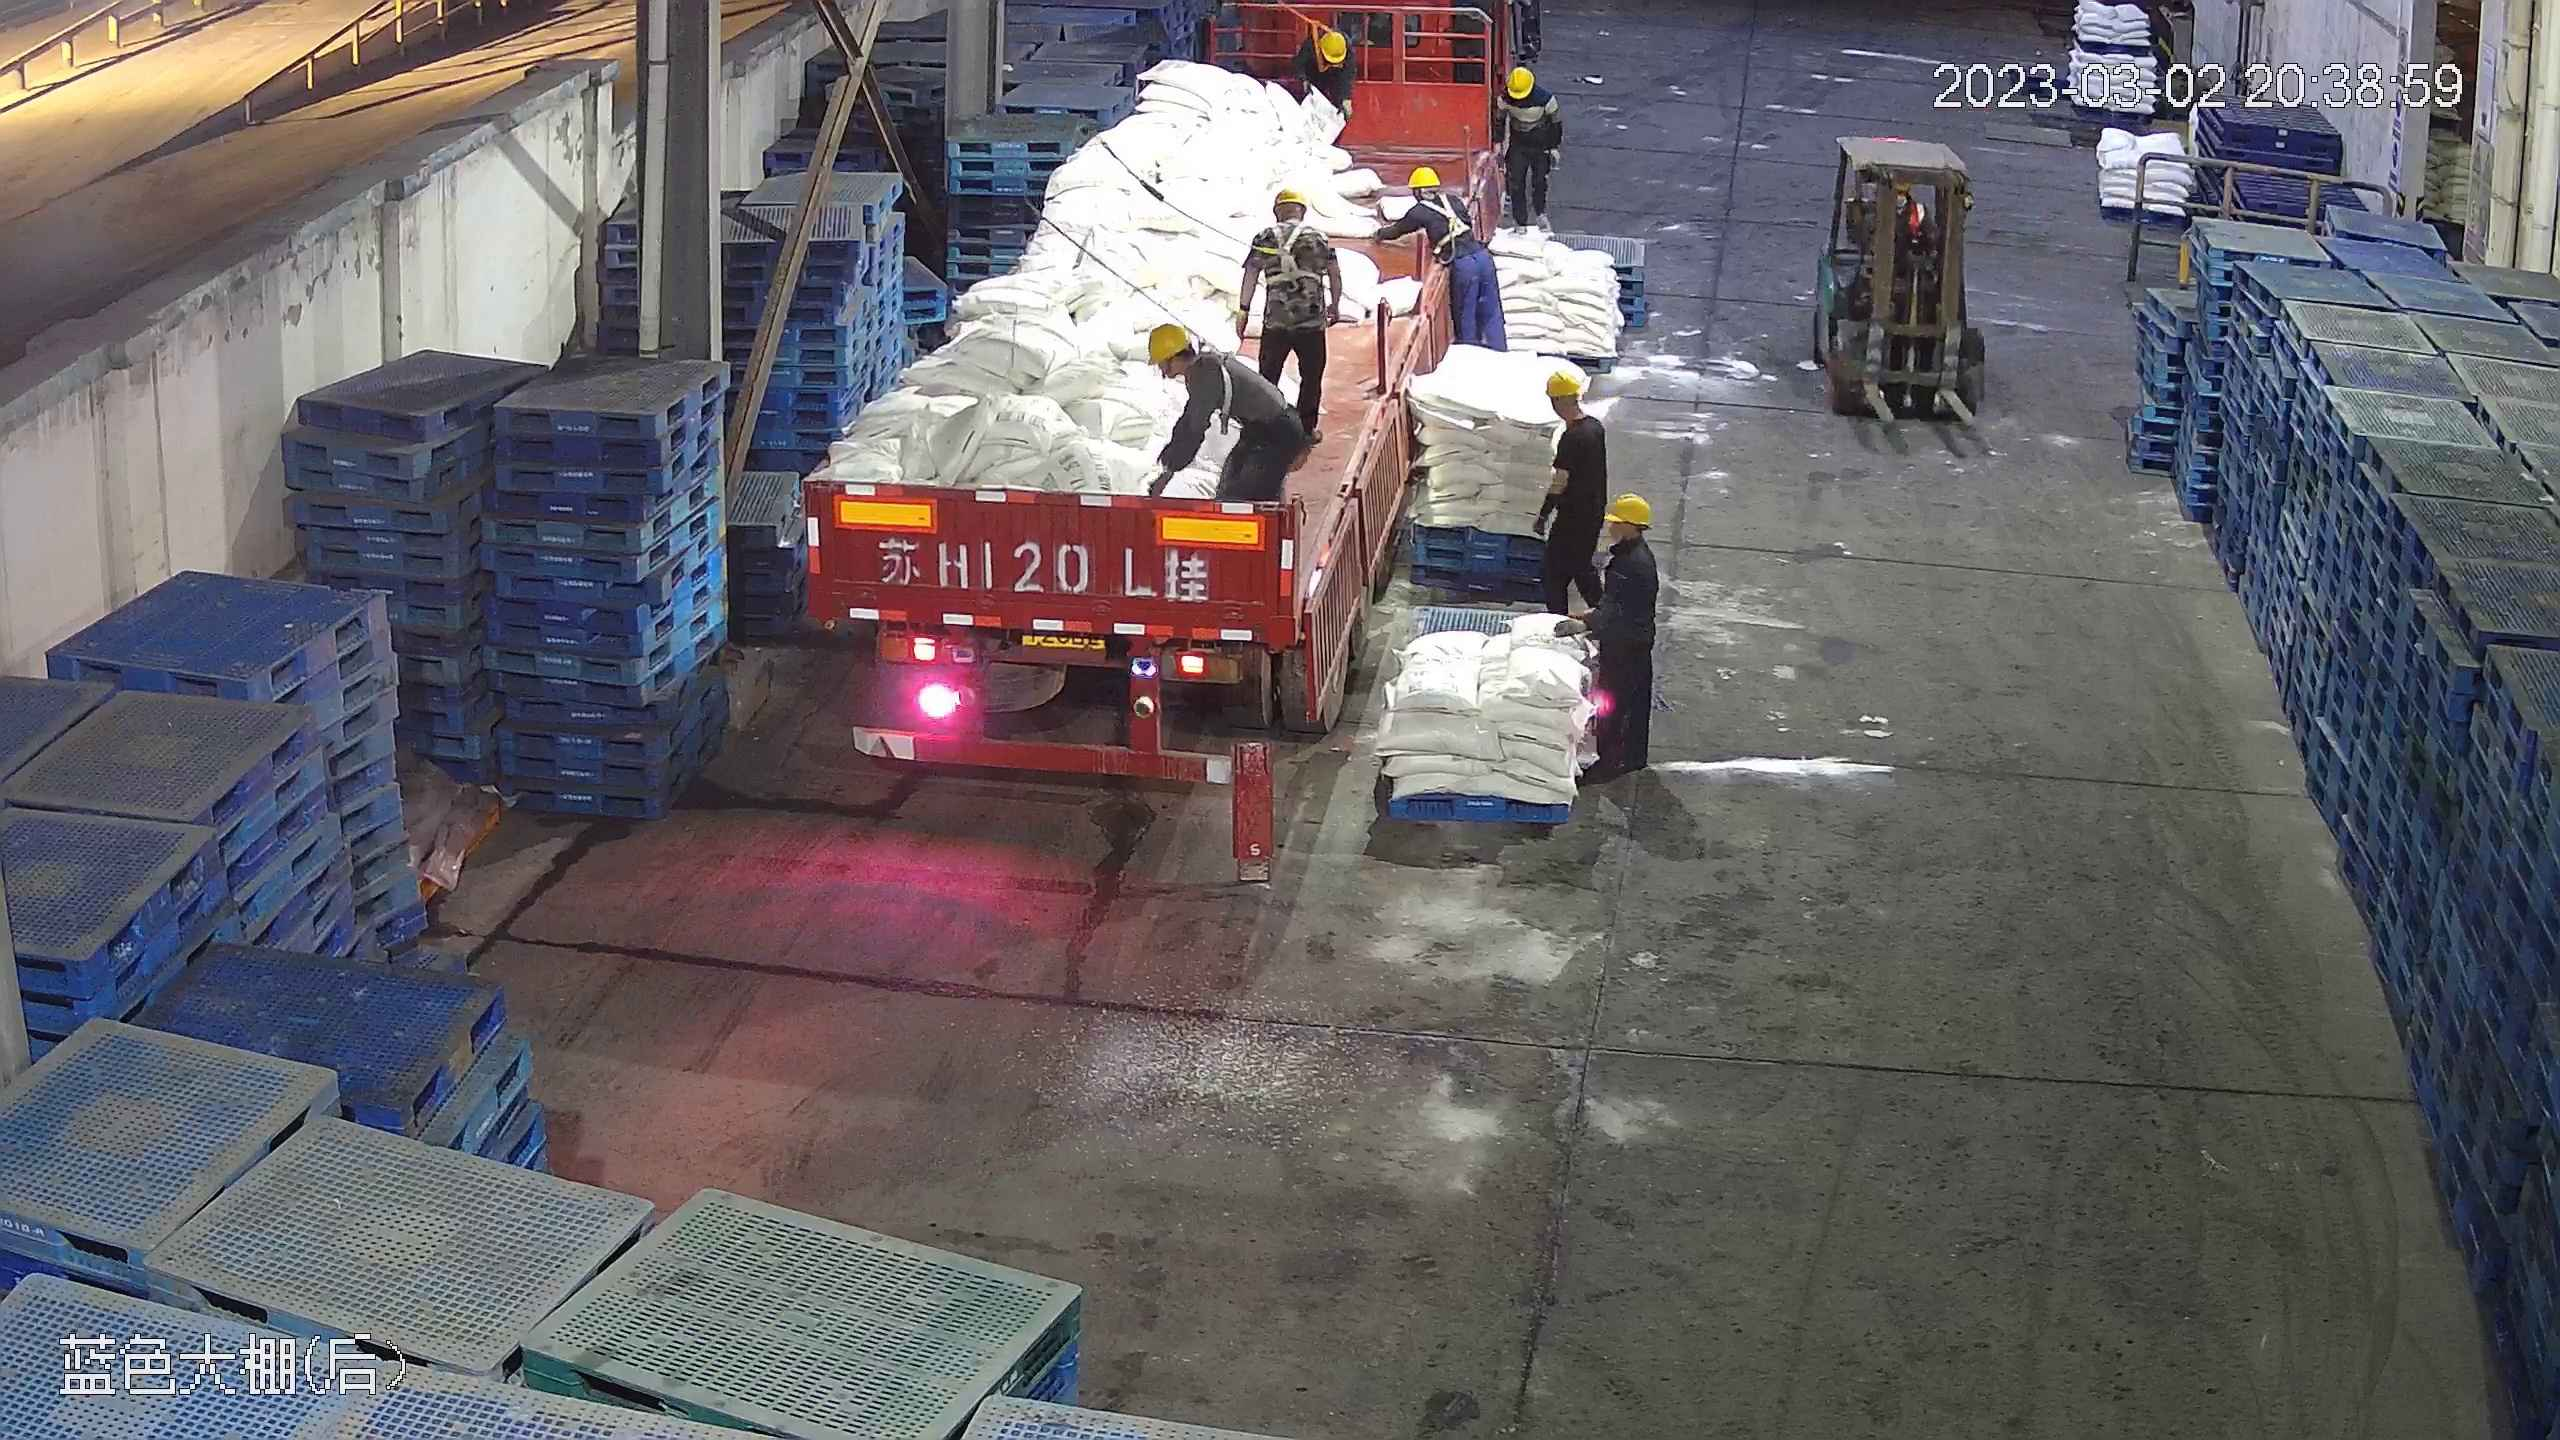belt: (1196, 335, 1265, 408), (1261, 226, 1322, 283), (1427, 190, 1479, 244), (1304, 14, 1335, 75)
head: (1146, 320, 1248, 401), (1585, 492, 1658, 588), (1252, 185, 1333, 259), (1541, 369, 1604, 457), (1402, 160, 1464, 225), (1294, 28, 1352, 81), (1498, 65, 1556, 118)
helmet: (1145, 319, 1191, 367), (1603, 491, 1650, 525), (1502, 65, 1545, 101), (1542, 369, 1583, 400), (1314, 28, 1347, 61), (1271, 185, 1310, 212), (1404, 161, 1441, 187)
people: (1144, 317, 1311, 515), (1576, 488, 1665, 779), (1238, 186, 1344, 423), (1382, 161, 1498, 363), (1537, 371, 1611, 629), (1493, 66, 1564, 239)
truck: (789, 22, 1474, 787)
